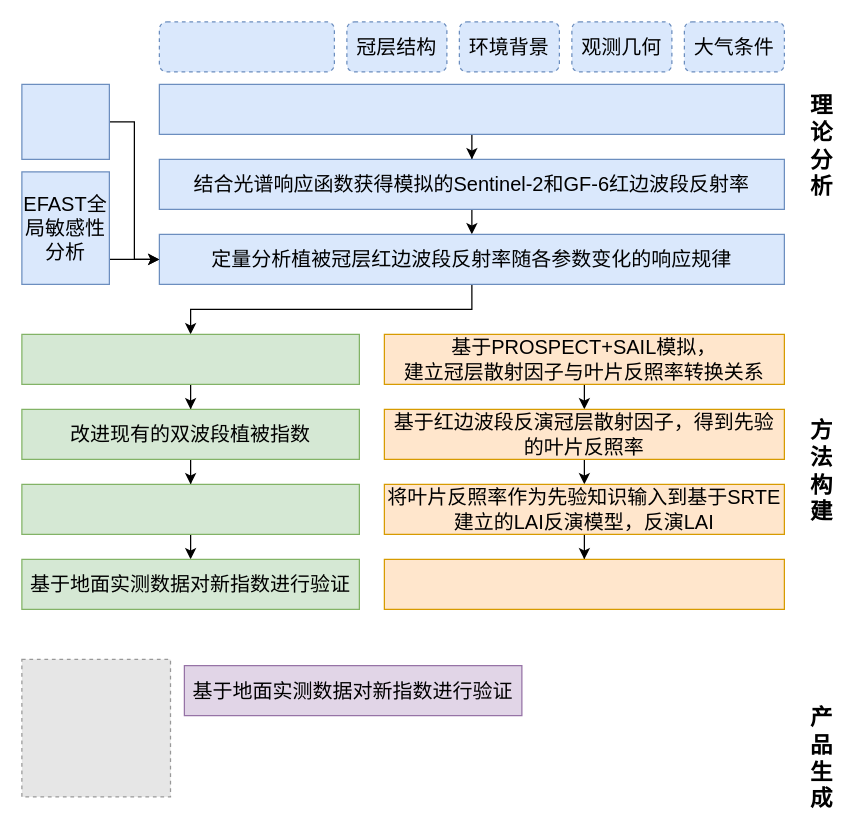
Image size: 856x835. Some labels were removed from this diagram. Grey dashed boxes stand in for pictures. The centre of each missing label's shape, as x and y in pixels:
"PROSPECT+SAIL(+6S)辐射传输模型模拟植被冠层反射光谱" belongs at (471,108).
"优选对LAI敏感的红边波段" belongs at (190,358).
"叶片生理生化组分" belongs at (246,46).
"基于地面实测数据对LAI反演结果进行验证" belongs at (583,583).
"构建新型三波段红边植被指数" belongs at (190,508).
"统计 分析" belongs at (65,121).
